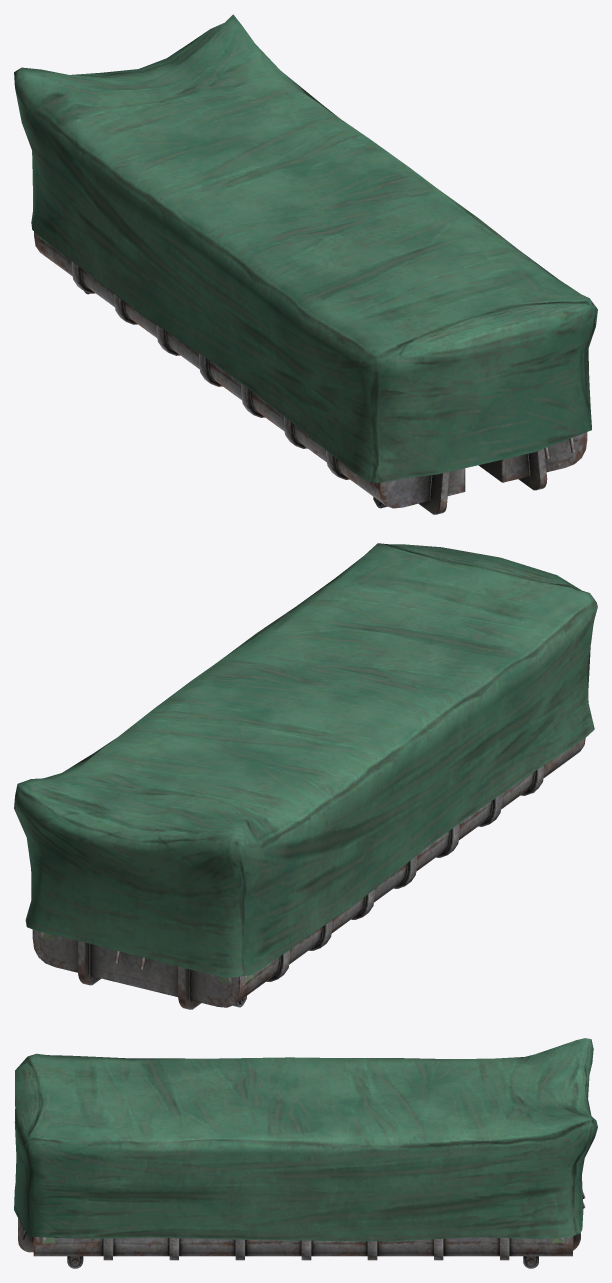
The model's file is sm22_076_dumpstera.fbx.
The picture shows the model from 3 angles, top to bottom: view 1: azimuth 30°, elevation 25°; view 2: azimuth 150°, elevation 25°; view 3: azimuth 270°, elevation 25°; orthographic projection. The views are drawn at different scales.
Parts seen in each view (by area): view 1: LOD_1_Group_0_Sub_2__sm22_076_dumpsterA_B_Mat, LOD_1_Group_0_Sub_1__sm22_076_dumpsterA_A_Mat; view 2: LOD_1_Group_0_Sub_2__sm22_076_dumpsterA_B_Mat, LOD_1_Group_0_Sub_1__sm22_076_dumpsterA_A_Mat; view 3: LOD_1_Group_0_Sub_2__sm22_076_dumpsterA_B_Mat, LOD_1_Group_0_Sub_1__sm22_076_dumpsterA_A_Mat.
Part boxes in pixels (x1=…): LOD_1_Group_0_Sub_2__sm22_076_dumpsterA_B_Mat: x1=14, y1=14, x2=597, y2=508; LOD_1_Group_0_Sub_1__sm22_076_dumpsterA_A_Mat: x1=34, y1=231, x2=574, y2=514; LOD_1_Group_0_Sub_2__sm22_076_dumpsterA_B_Mat: x1=14, y1=543, x2=597, y2=977; LOD_1_Group_0_Sub_1__sm22_076_dumpsterA_A_Mat: x1=32, y1=738, x2=585, y2=1009; LOD_1_Group_0_Sub_2__sm22_076_dumpsterA_B_Mat: x1=14, y1=1038, x2=597, y2=1241; LOD_1_Group_0_Sub_1__sm22_076_dumpsterA_A_Mat: x1=18, y1=1191, x2=585, y2=1268.
Bounding box in the file's own units: 3.04 × 2.54 × 8.37.
